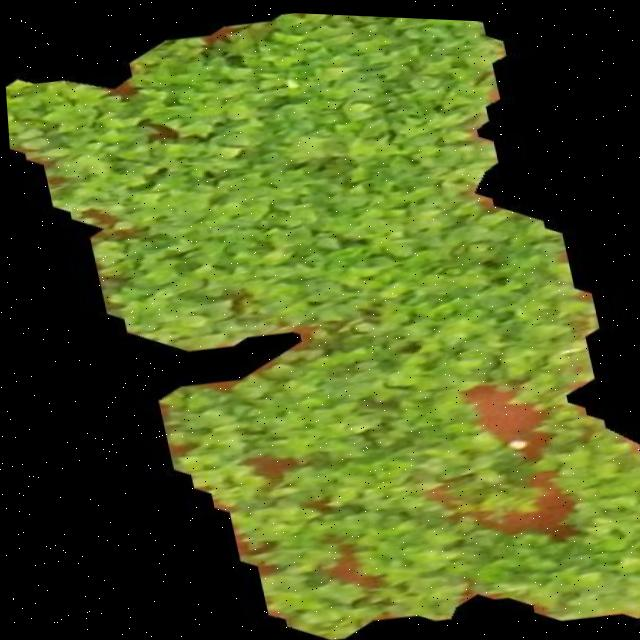Bean: (5, 10, 640, 637)
